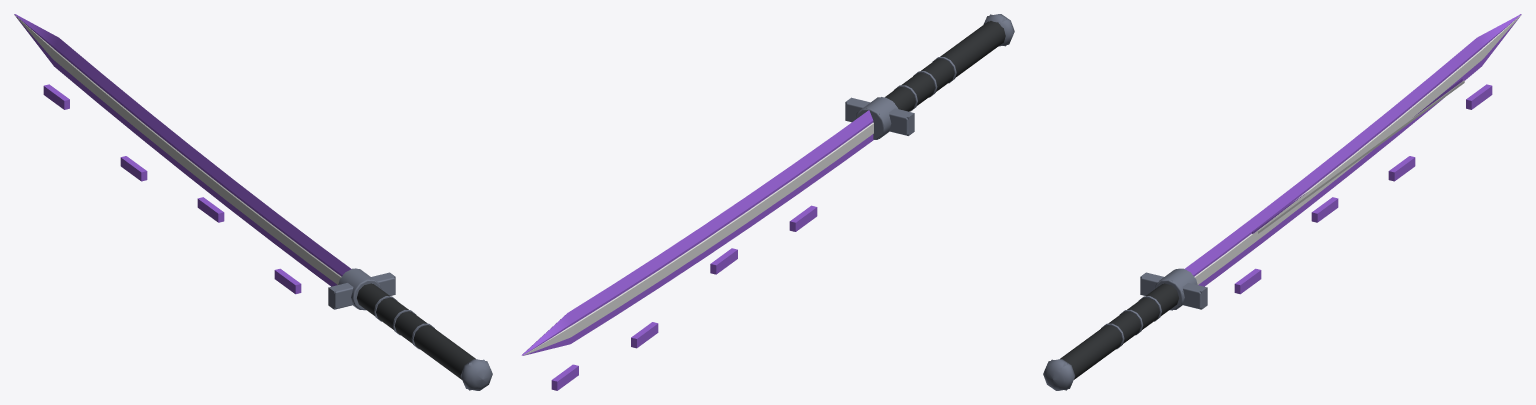
Rendered from m_phaseblade.glb.
The picture shows the model from 3 angles, left to right: view 1: azimuth 30°, elevation 25°; view 2: azimuth 150°, elevation 25°; view 3: azimuth 330°, elevation 25°; orthographic projection. The views are drawn at different scales.
Visible parts, largest first — view 1: L0, L1; view 2: L0, L1; view 3: L0, L1.
Boxes of the visible parts, <box> form: L0: <box>14,14,492,390</box>; L1: <box>328,268,491,390</box>; L0: <box>521,14,1014,390</box>; L1: <box>845,14,1006,138</box>; L0: <box>1043,14,1521,390</box>; L1: <box>1044,269,1207,390</box>.
Size of the model in its own units: 0.085 by 0.1069 by 1.12.
